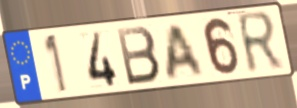1: (42, 32, 70, 96)
4: (86, 29, 120, 89)
6: (201, 16, 241, 78)
A: (165, 22, 207, 82)
B: (114, 24, 163, 88)
R: (234, 9, 286, 78)
